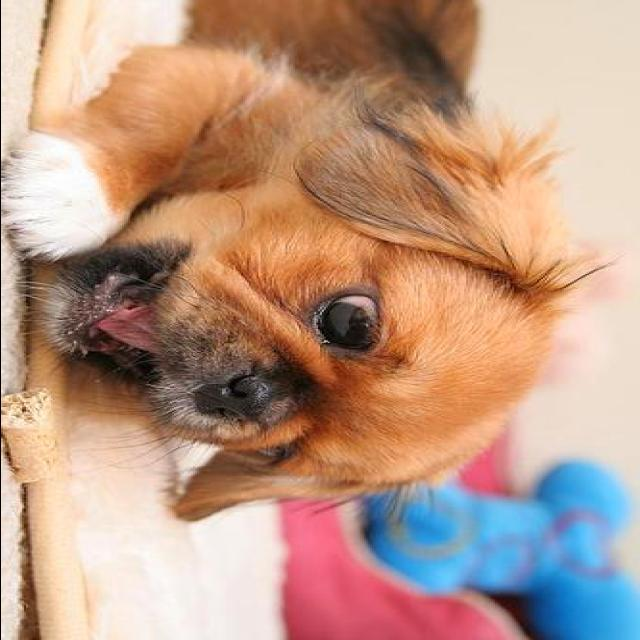pekinese: (6, 1, 624, 532)
